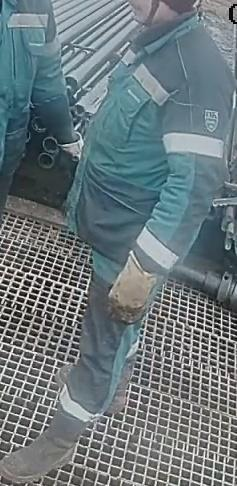gloves: (106, 249, 159, 325), (56, 132, 83, 171)
vest: (63, 12, 236, 279), (0, 0, 58, 188)
